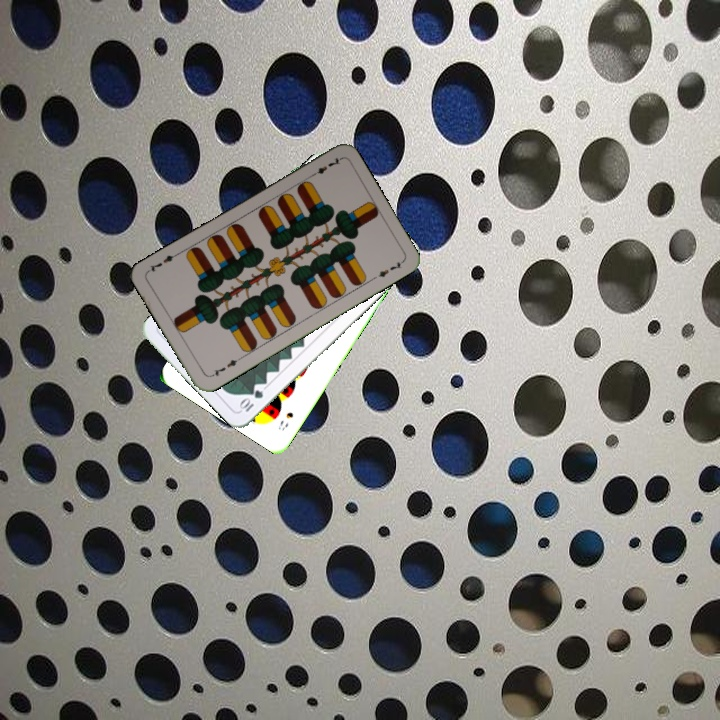E7: (306, 153, 343, 180), (206, 354, 243, 379)
G10: (236, 386, 266, 414)
S8: (274, 408, 296, 433)
